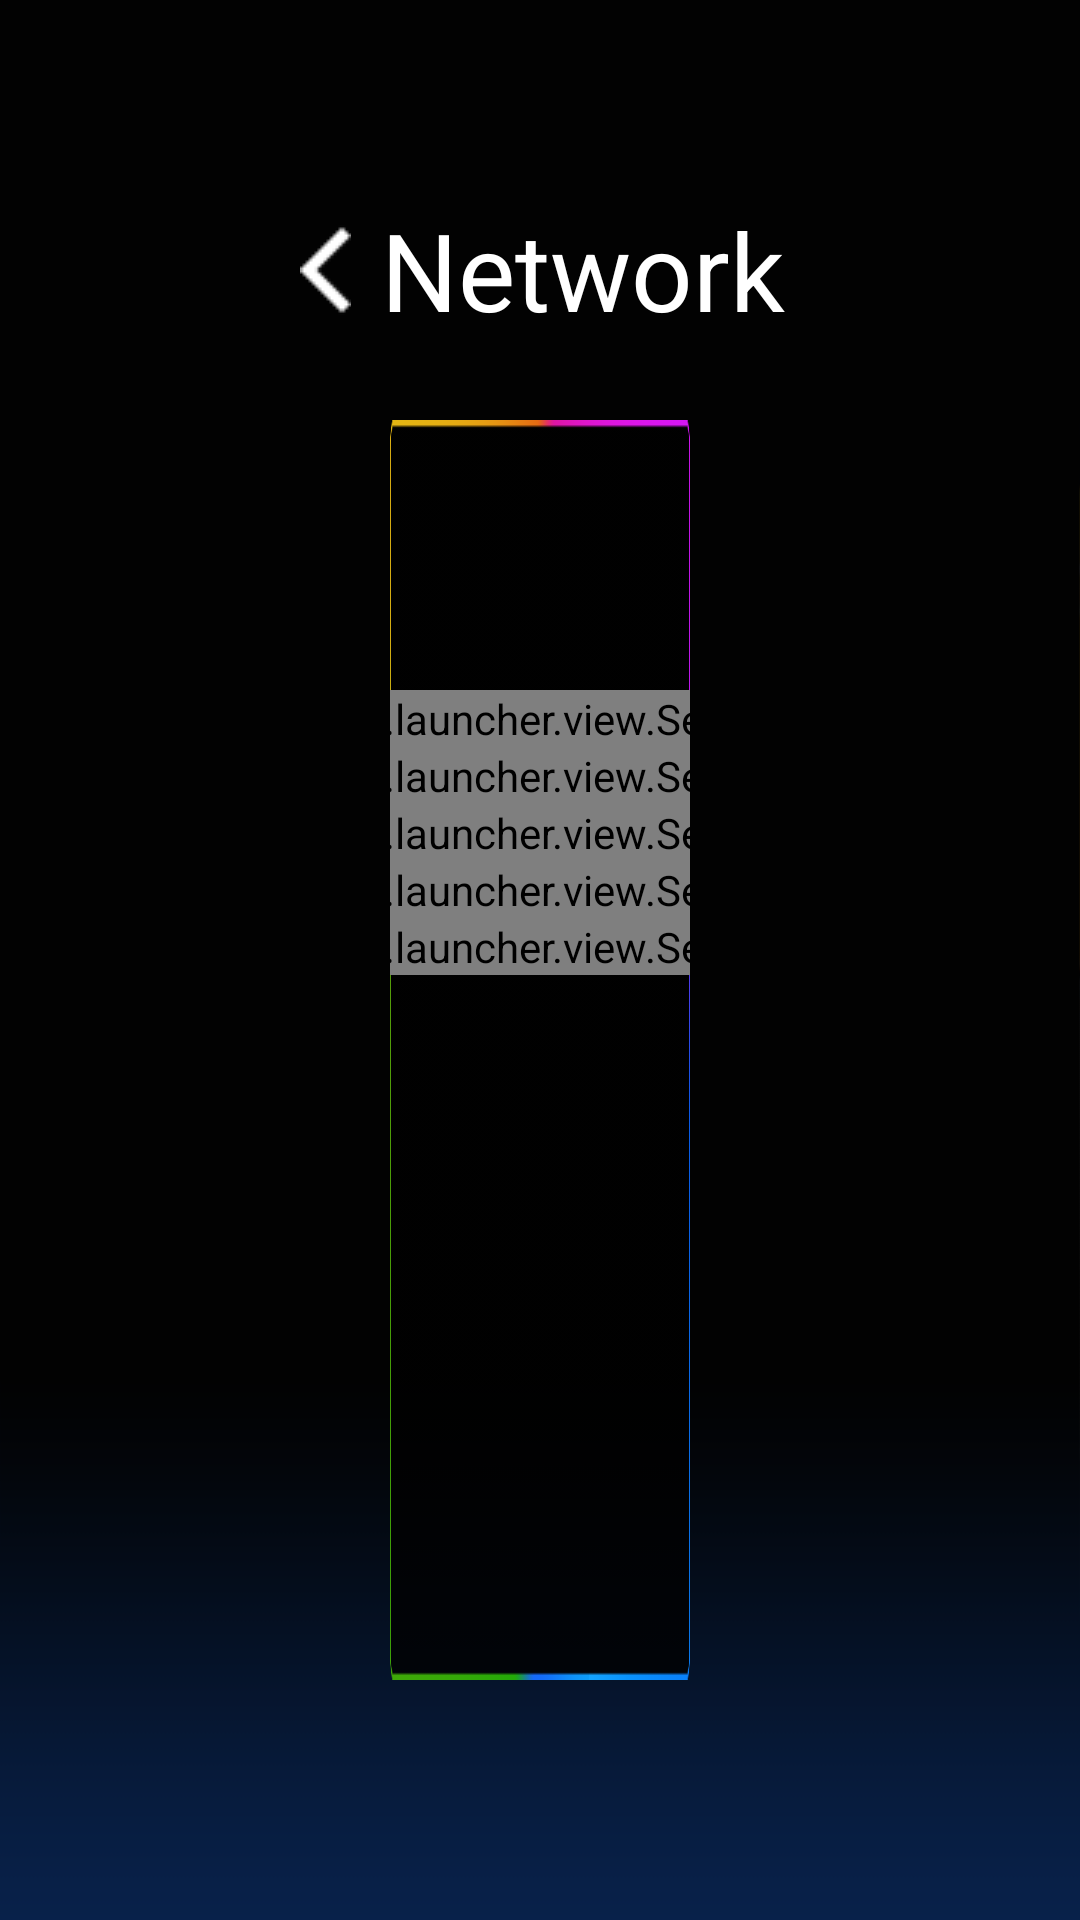

Named icons in this screenshot (1080x1920) and their centers, [x,y]:
arrow left: [325,270]
